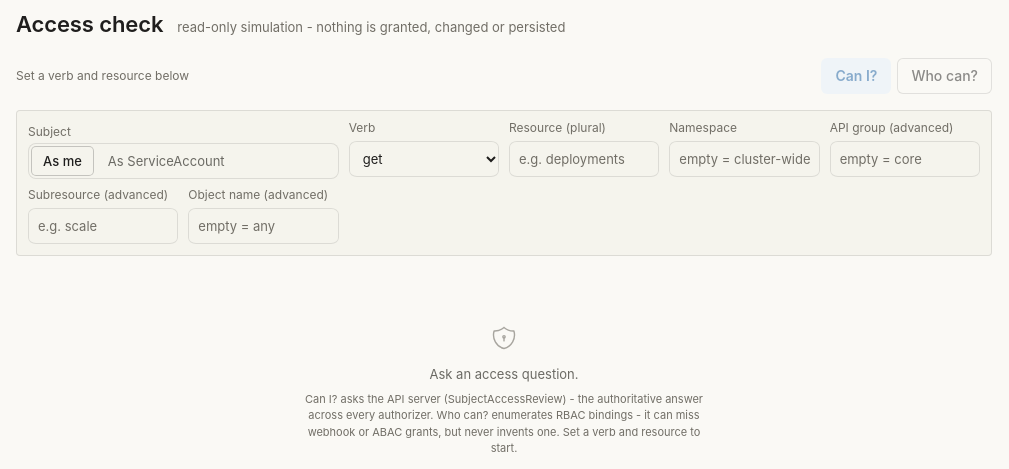
Test: AccessView (redesign step 5) › explicit deny vs default deny are distinguished
This screenshot has width=1009, height=469.
Type "secrets" into the field named "resource".
click(584, 159); type("secrets")  # box x1=509 y1=139 x2=659 y2=179
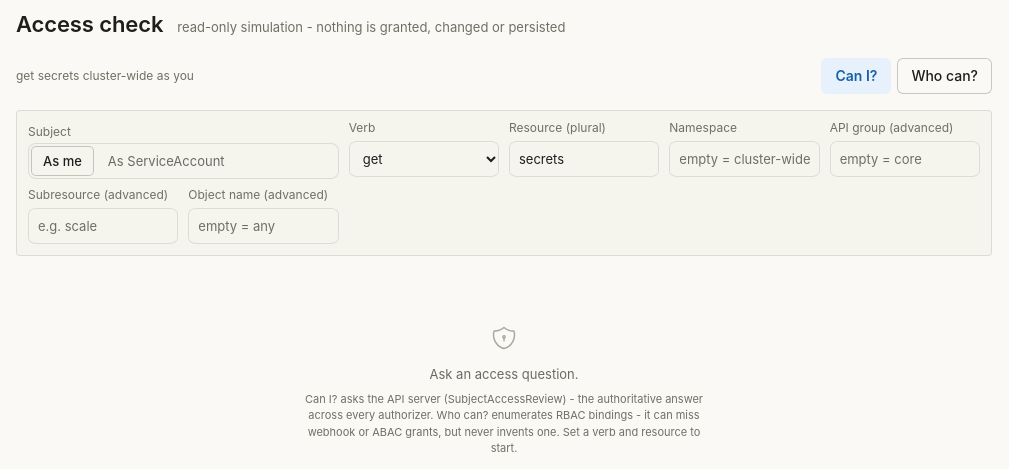
Click the button "Can I?".
click(856, 76)  # box x1=821 y1=58 x2=891 y2=94
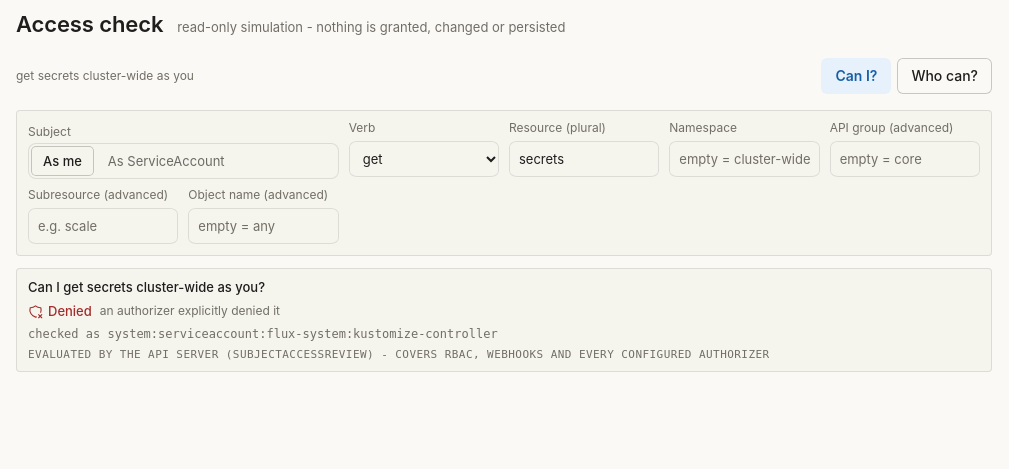
Expected: the text "Denied" is shown, x1=28 y1=302 x2=92 y2=320
Expected: the text "an authorizer explicitly denied it" is shown, x1=100 y1=303 x2=280 y2=319
